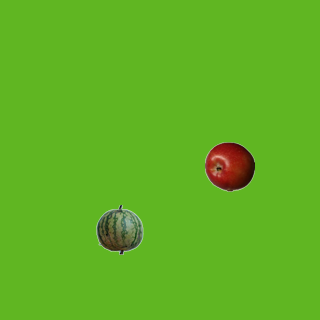Apple Braeburn: (204, 141, 254, 191)
Watermelon: (94, 204, 144, 254)
